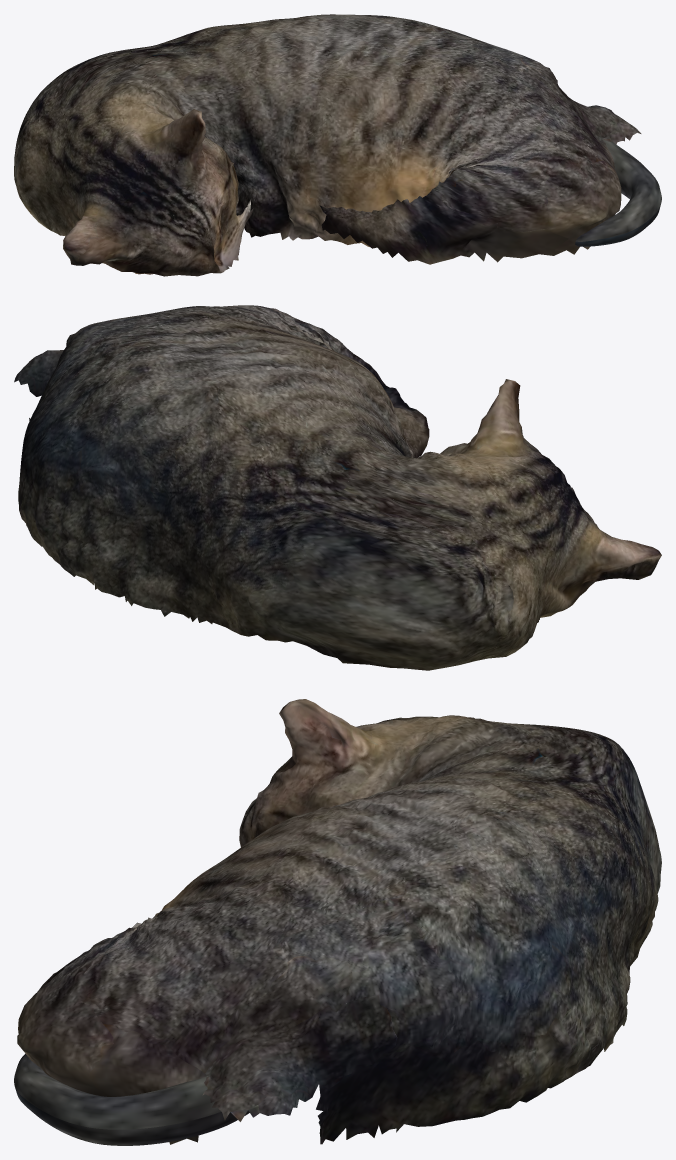
File: sleeping-tabby.glb
The picture shows the model from 3 angles, top to bottom: view 1: azimuth 30°, elevation 25°; view 2: azimuth 150°, elevation 25°; view 3: azimuth 270°, elevation 25°; orthographic projection. The views are drawn at different scales.
Parts seen in each view (by area): view 1: Sleeping tabby — Alben Tan (CC BY 4.0); view 2: Sleeping tabby — Alben Tan (CC BY 4.0); view 3: Sleeping tabby — Alben Tan (CC BY 4.0).
Part boxes in pixels (box(x1,y1,x2,y2)): Sleeping tabby — Alben Tan (CC BY 4.0): box(14, 14, 661, 276); Sleeping tabby — Alben Tan (CC BY 4.0): box(14, 305, 661, 670); Sleeping tabby — Alben Tan (CC BY 4.0): box(14, 699, 661, 1145).
Bounding box in the file's own units: 0.4307 × 0.1139 × 0.3223.
Materials: 1 (1 with a texture image).
